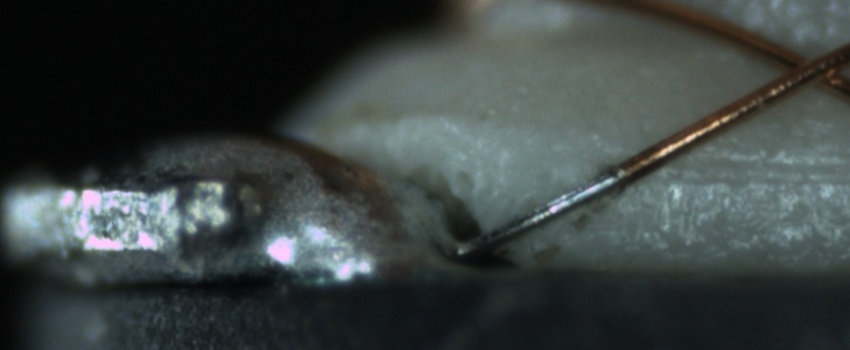CL: (761, 39, 846, 98)
DL: (659, 142, 850, 206)
TS: (454, 168, 623, 258)
